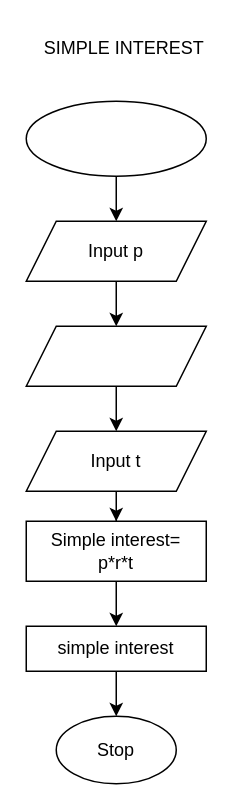
This 248x810 diagram has some shape labels left out. The centre of each missing label's shape, as x and y in pixels:
"Input r" goes at pixel 115 355.
"Start" goes at pixel 115 138.
